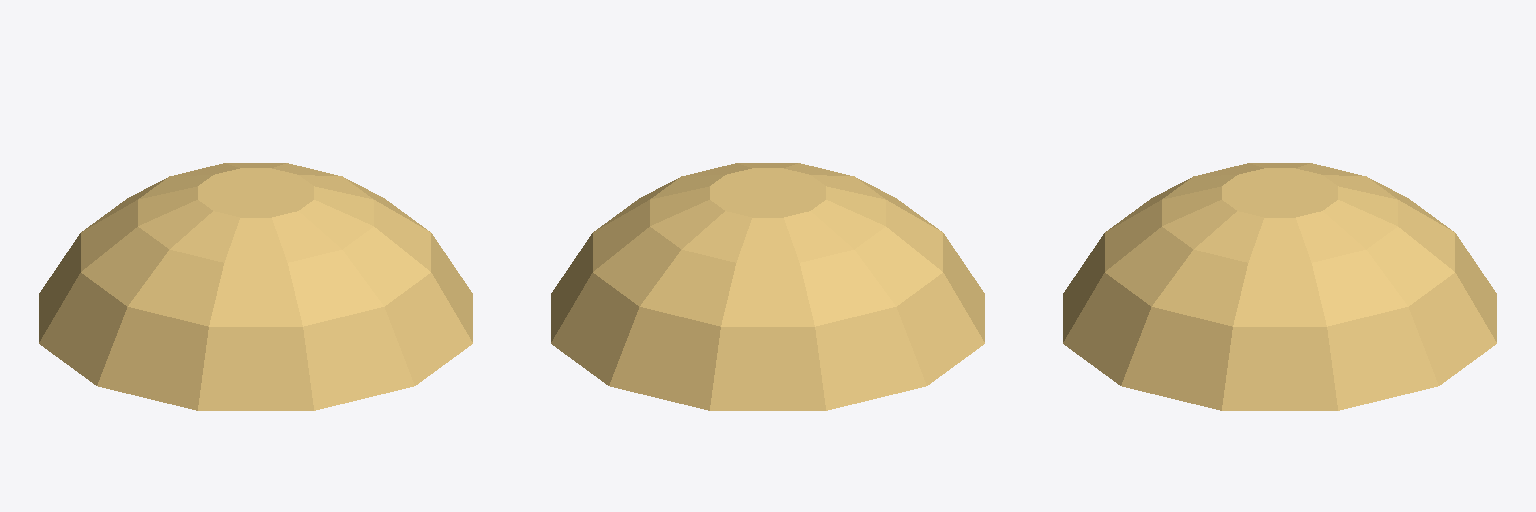
File: Prop_Decorative_Hay_Pile.obj
The picture shows the model from 3 angles: view 1: azimuth 30°, elevation 25°; view 2: azimuth 150°, elevation 25°; view 3: azimuth 270°, elevation 25°; orthographic projection.
Visible parts, largest first — view 1: Hay; view 2: Hay; view 3: Hay.
Boxes of the visible parts, box(x1,y1,x2,y2) form: Hay: box(39, 163, 472, 410); Hay: box(551, 163, 984, 410); Hay: box(1063, 163, 1496, 410).
Size of the model in its own units: 1.25 by 0.4 by 1.25.